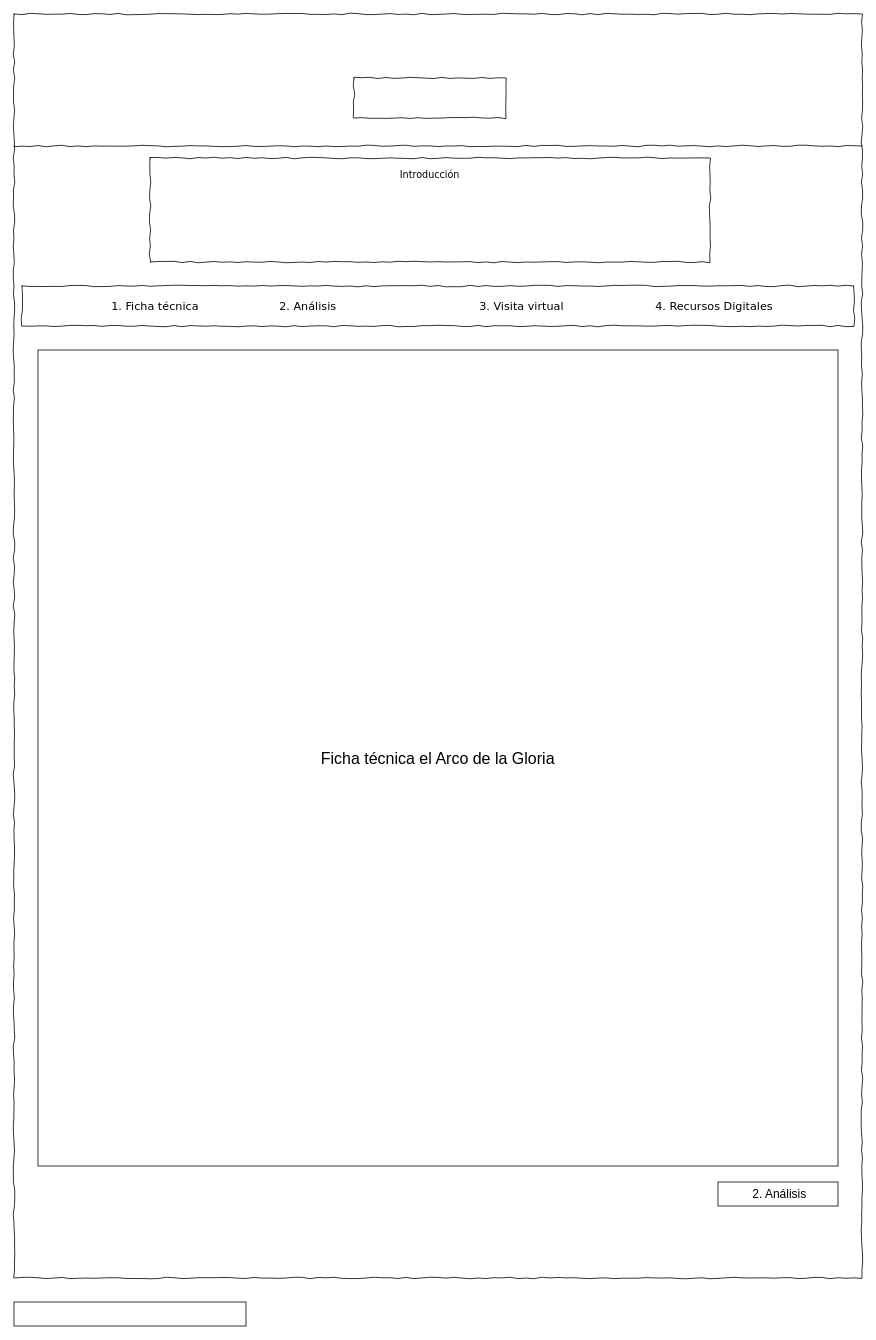
Some shapes in this 876 by 1340 pixel diagram are drawn without their labels. The box of each missing label's shape, as (x1, y1, x2, y2) in pixels:
Jose Pulido Díaz y Beatriz Galera Gaitán: (13, 1301, 246, 1326)
Título: (353, 77, 506, 118)
